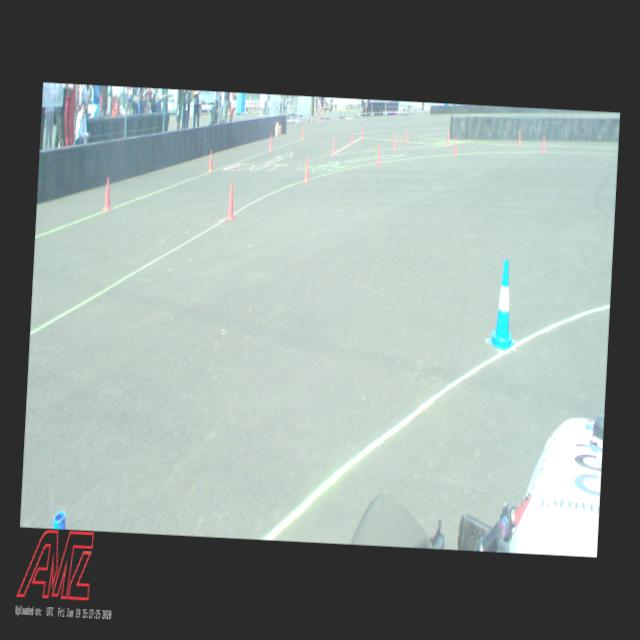blue_cone: (488, 260, 520, 352)
